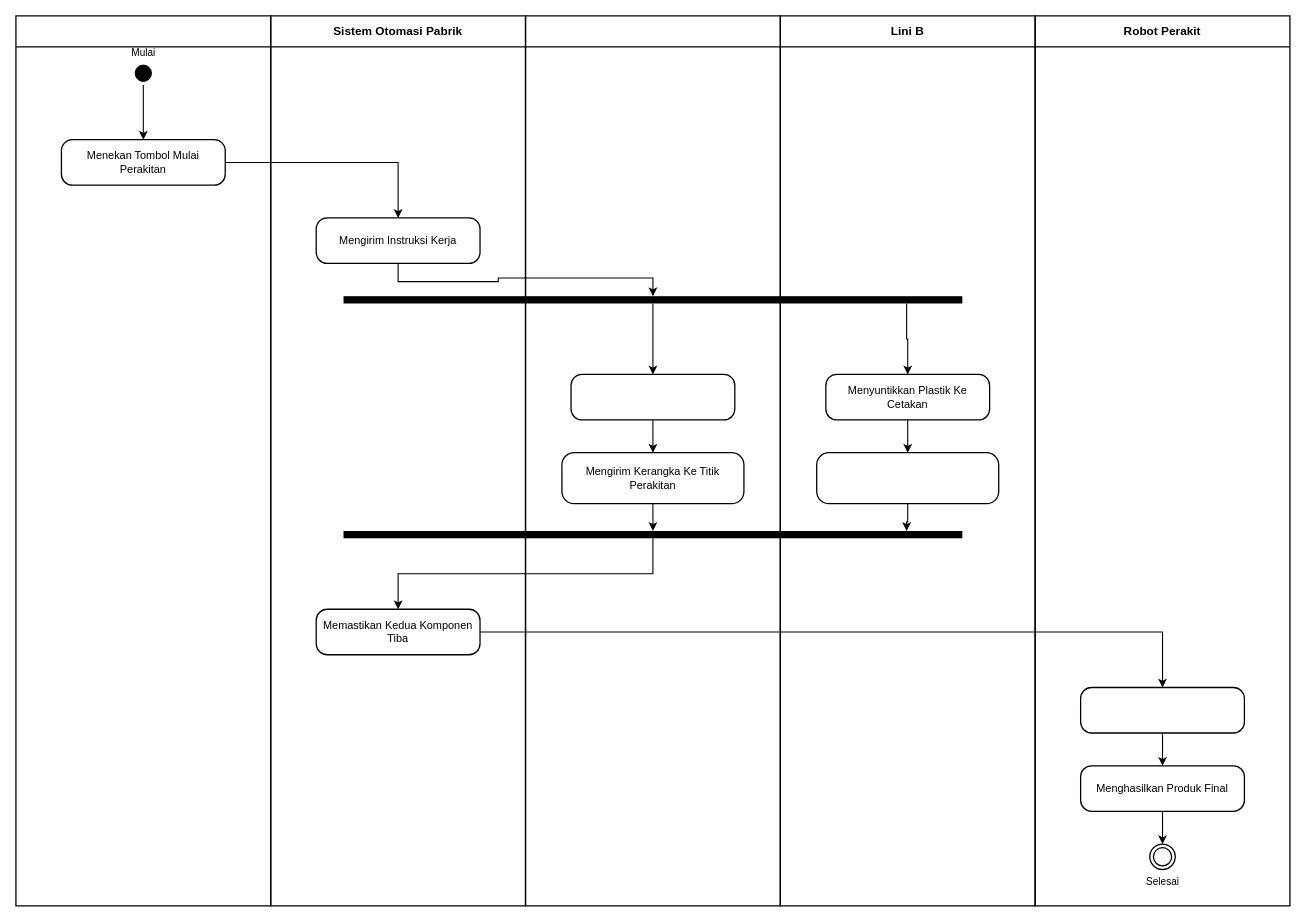
Some shapes in this 1307 by 923 pixel diagram are drawn without their labels. Here are the shapes that lost their labels. From the top down, the box of each, then its label:
(570, 373, 735, 420): Mengelas Kerangka Besi
(15, 15, 271, 906): Manajer Produksi
(524, 15, 781, 906): Lini A
(816, 452, 999, 504): Mengirim Komponen Ke Titik Perakitan
(1080, 686, 1245, 733): Merakit Kedua Komponen
